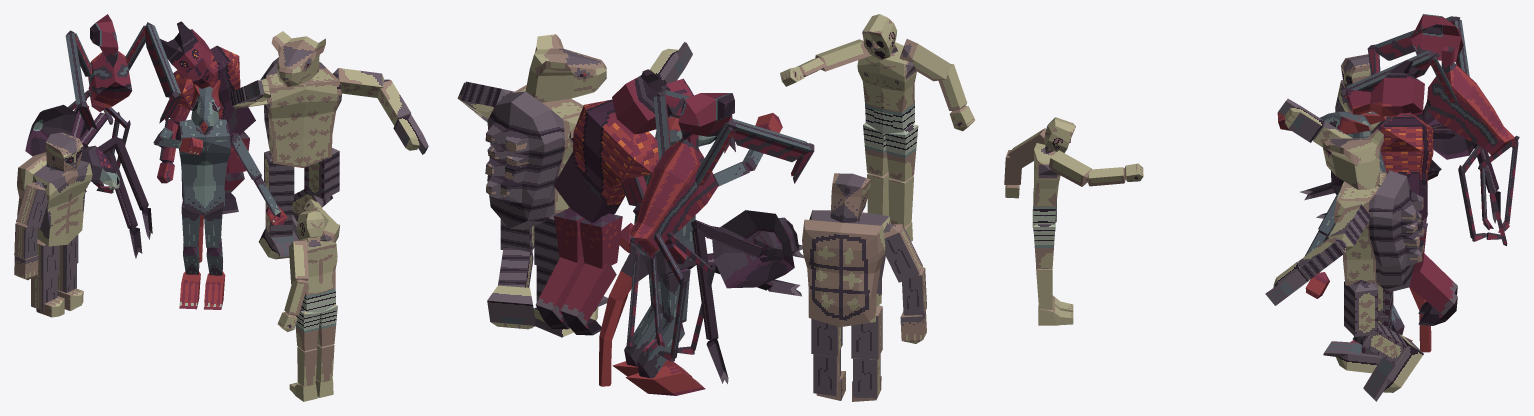
The model's file is new_box_art.glb.
3 renders of one model, left to right at view 1: azimuth 30°, elevation 25°; view 2: azimuth 150°, elevation 25°; view 3: azimuth 270°, elevation 25°, orthographic. The views are drawn at different scales.
Visible parts, largest first — view 1: Cube.496, Cube.522, Cube.532, Cube.485, Cube.486, Cube.478, Cube.494, Cube.579, Cube.549, Cube.519, Cube.534, Cube.523 (+43 smaller); view 2: Cube.496, Cube.532, Cube.485, Cube.579, Cube.549, Cube.478, Cube.494, Cube.522, Cube.486, Cube.491, Cube.578, Cube.490 (+42 smaller); view 3: Cube.496, Cube.579, Cube.485, Cube.486, Cube.494, Cube.519, Cube.478, Cube.524, Cube.578, Cube.516, Cube.500, Cube.521 (+20 smaller).
Boxes of the visible parts, x1,y1,x2,y2 form: Cube.496: (260,57,341,167); Cube.522: (175,119,232,262); Cube.532: (17,152,92,246); Cube.485: (169,45,255,135); Cube.486: (160,21,216,88); Cube.478: (301,241,337,312); Cube.494: (271,31,325,86); Cube.579: (88,51,132,111); Cube.549: (25,104,88,156); Cube.519: (304,148,339,199); Cube.534: (45,132,82,171); Cube.523: (190,79,220,134); Cube.496: (485,85,583,229); Cube.532: (802,210,890,327); Cube.485: (553,99,658,223); Cube.579: (629,138,718,255); Cube.549: (712,210,799,288); Cube.478: (857,42,916,134); Cube.494: (525,34,606,102); Cube.522: (599,160,696,386); Cube.486: (612,69,693,134); Cube.491: (560,262,616,335); Cube.578: (678,93,734,139); Cube.490: (579,213,622,268); Cube.496: (1333,170,1424,291); Cube.579: (1426,62,1514,155); Cube.485: (1380,112,1433,220); Cube.486: (1346,60,1424,117); Cube.494: (1322,129,1383,189); Cube.519: (1344,280,1377,336); Cube.478: (1033,143,1060,224); Cube.524: (1409,263,1457,325); Cube.578: (1410,14,1463,62); Cube.516: (1363,334,1423,401); Cube.500: (1323,341,1382,373); Cube.521: (1352,322,1407,364).
Size of the model in its own units: 24.38 by 16.64 by 26.01.
Materials: 26 (26 with a texture image).
